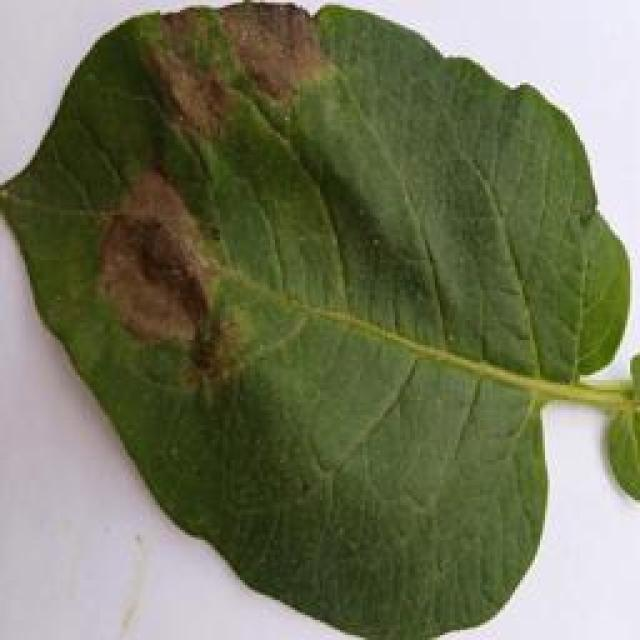Potato_Late_Blight: (1, 9, 627, 631)
